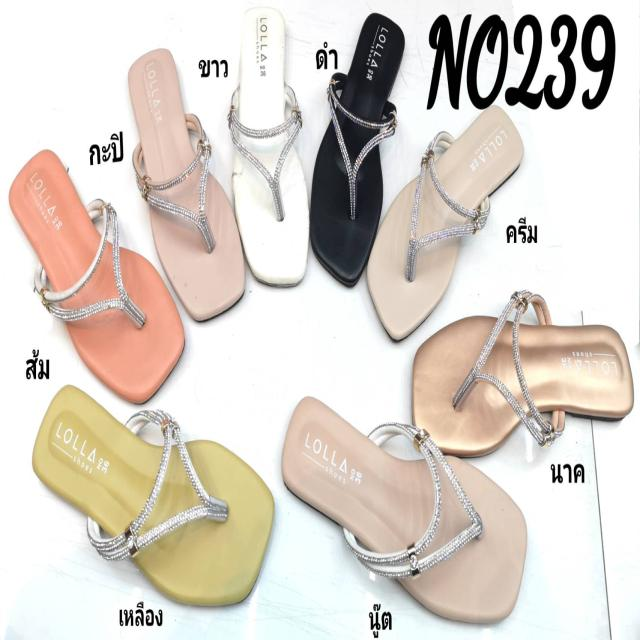black: (315, 18, 401, 286)
cream: (370, 104, 528, 338)
kapi: (125, 47, 243, 311)
nak: (391, 316, 639, 428)
nood: (280, 393, 521, 616)
orange: (8, 154, 186, 396)
yellow: (32, 383, 274, 610), (234, 18, 308, 286)
